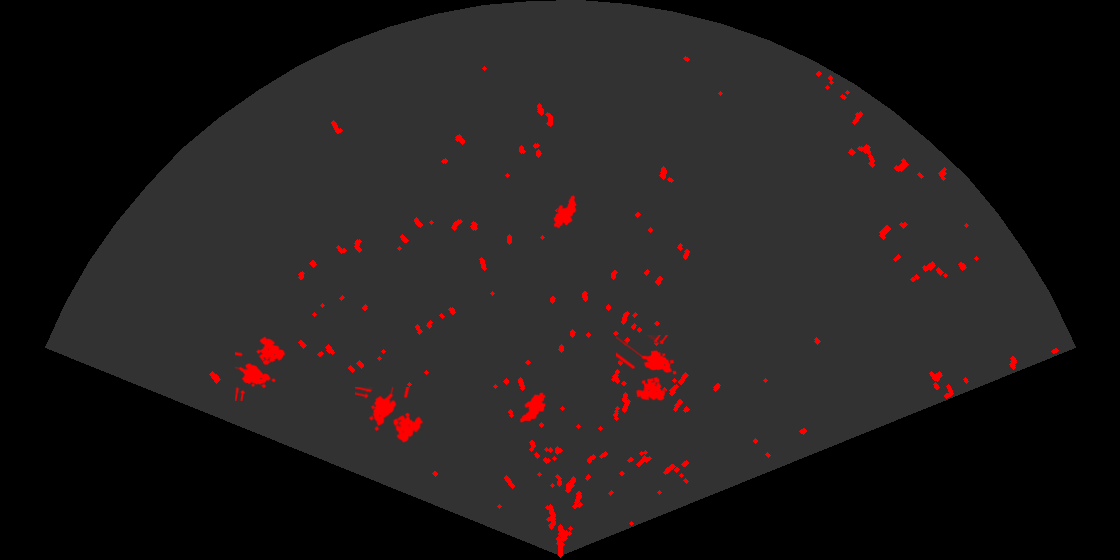AUV: (552, 193, 578, 230), (518, 391, 547, 424)
cage: (616, 335, 678, 402), (355, 387, 425, 444), (235, 335, 287, 401)
